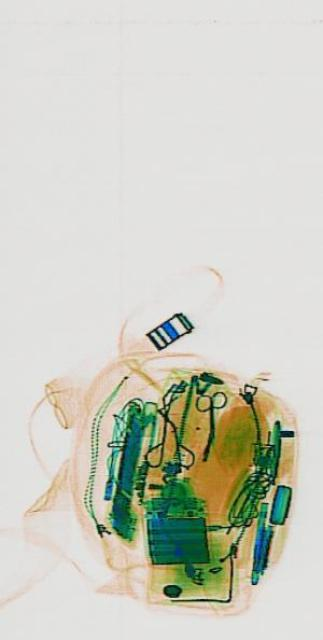Scissors: (194, 386, 227, 436)
